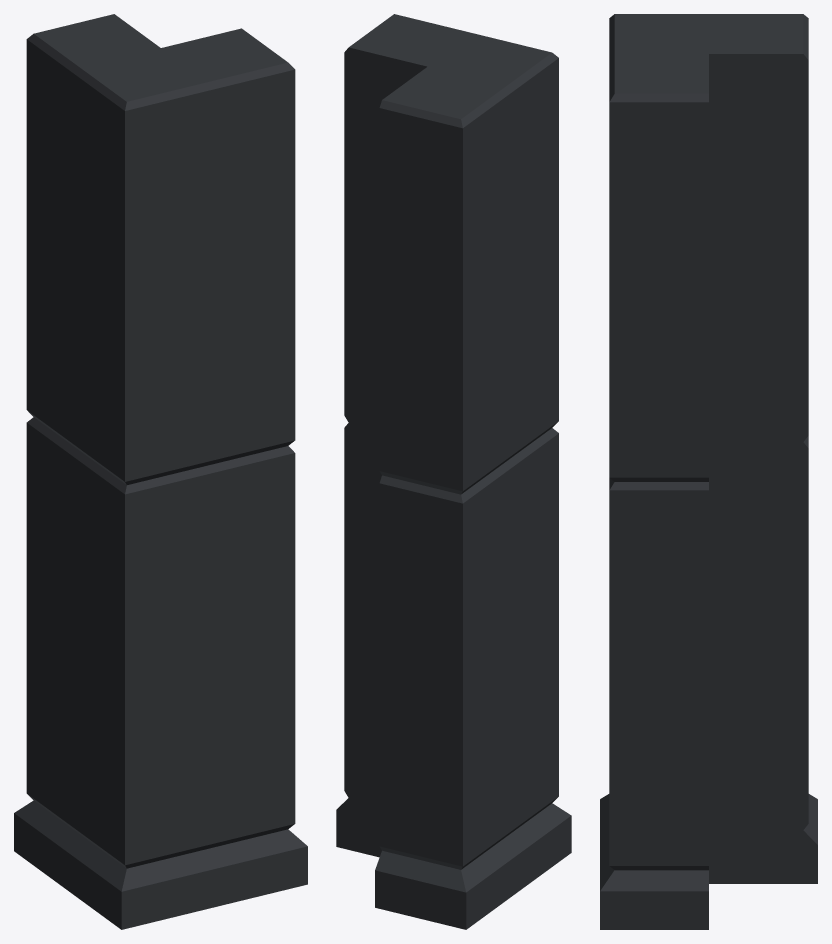
Rendered from Pillar_Interior_02.glb.
The picture shows the model from 3 angles, left to right: view 1: azimuth 30°, elevation 25°; view 2: azimuth 150°, elevation 25°; view 3: azimuth 270°, elevation 25°; orthographic projection. The views are drawn at different scales.
Visible parts, largest first — view 1: SM_Env_Pillar_Interior_02; view 2: SM_Env_Pillar_Interior_02; view 3: SM_Env_Pillar_Interior_02.
Part boxes in pixels (x1,y1,x2,y2): SM_Env_Pillar_Interior_02: (14,14,307,929); SM_Env_Pillar_Interior_02: (336,14,571,929); SM_Env_Pillar_Interior_02: (600,14,817,929).
Size of the model in its own units: 0.7137 by 3 by 0.7137.
1 material, 1 textured.
